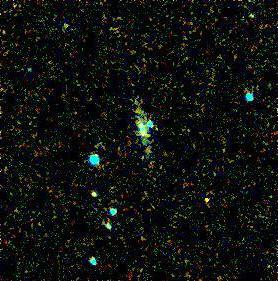star: (114, 119, 144, 149)
